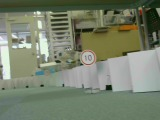speed_10: (77, 48, 97, 66)
